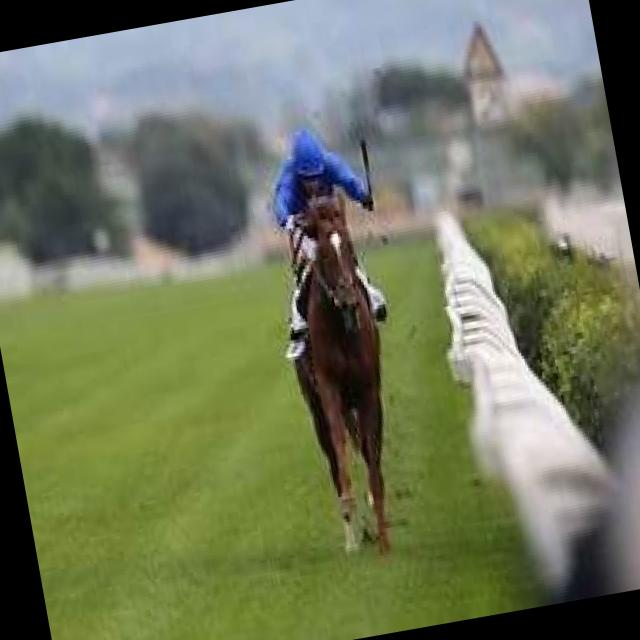horse: (263, 189, 416, 561)
